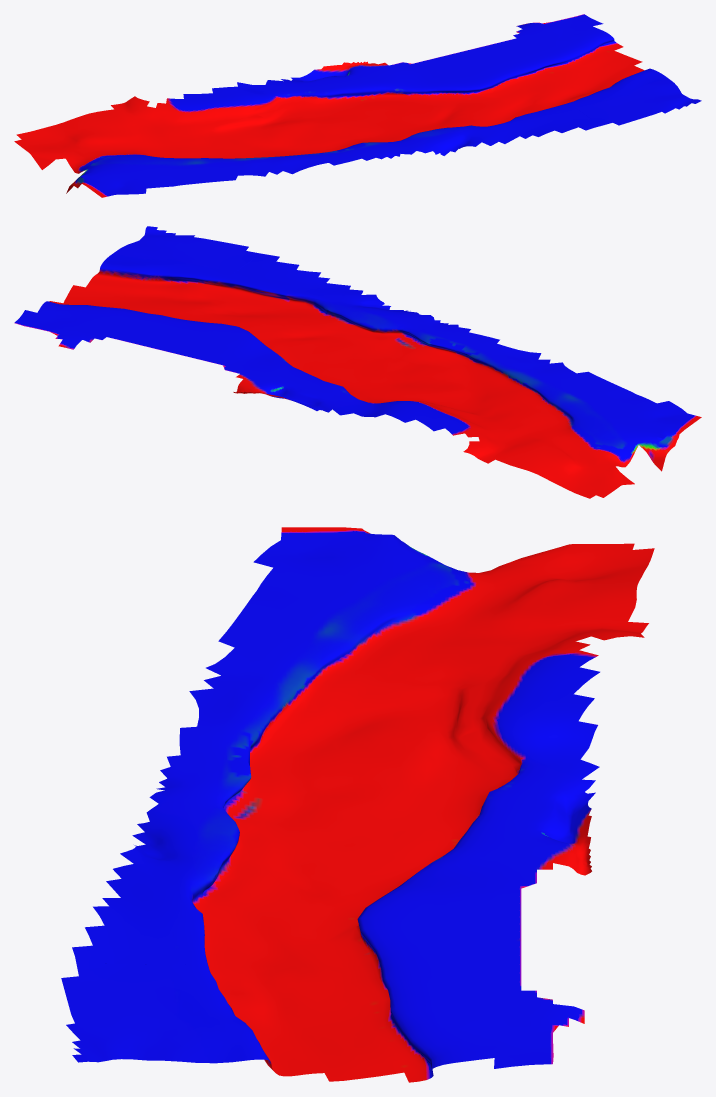
File: split4.fbx
3 renders of one model, top to bottom at view 1: azimuth 30°, elevation 25°; view 2: azimuth 150°, elevation 25°; view 3: azimuth 270°, elevation 25°, orthographic. The views are drawn at different scales.
Parts seen in each view (by area): view 1: Retopo_Plane.005; view 2: Retopo_Plane.005; view 3: Retopo_Plane.005.
Part boxes in pixels (box(x1,y1,x2,y2)): Retopo_Plane.005: box(14, 14, 701, 197); Retopo_Plane.005: box(14, 226, 701, 498); Retopo_Plane.005: box(61, 527, 654, 1082).
Size of the model in its own units: 630 by 31.4 by 292.
